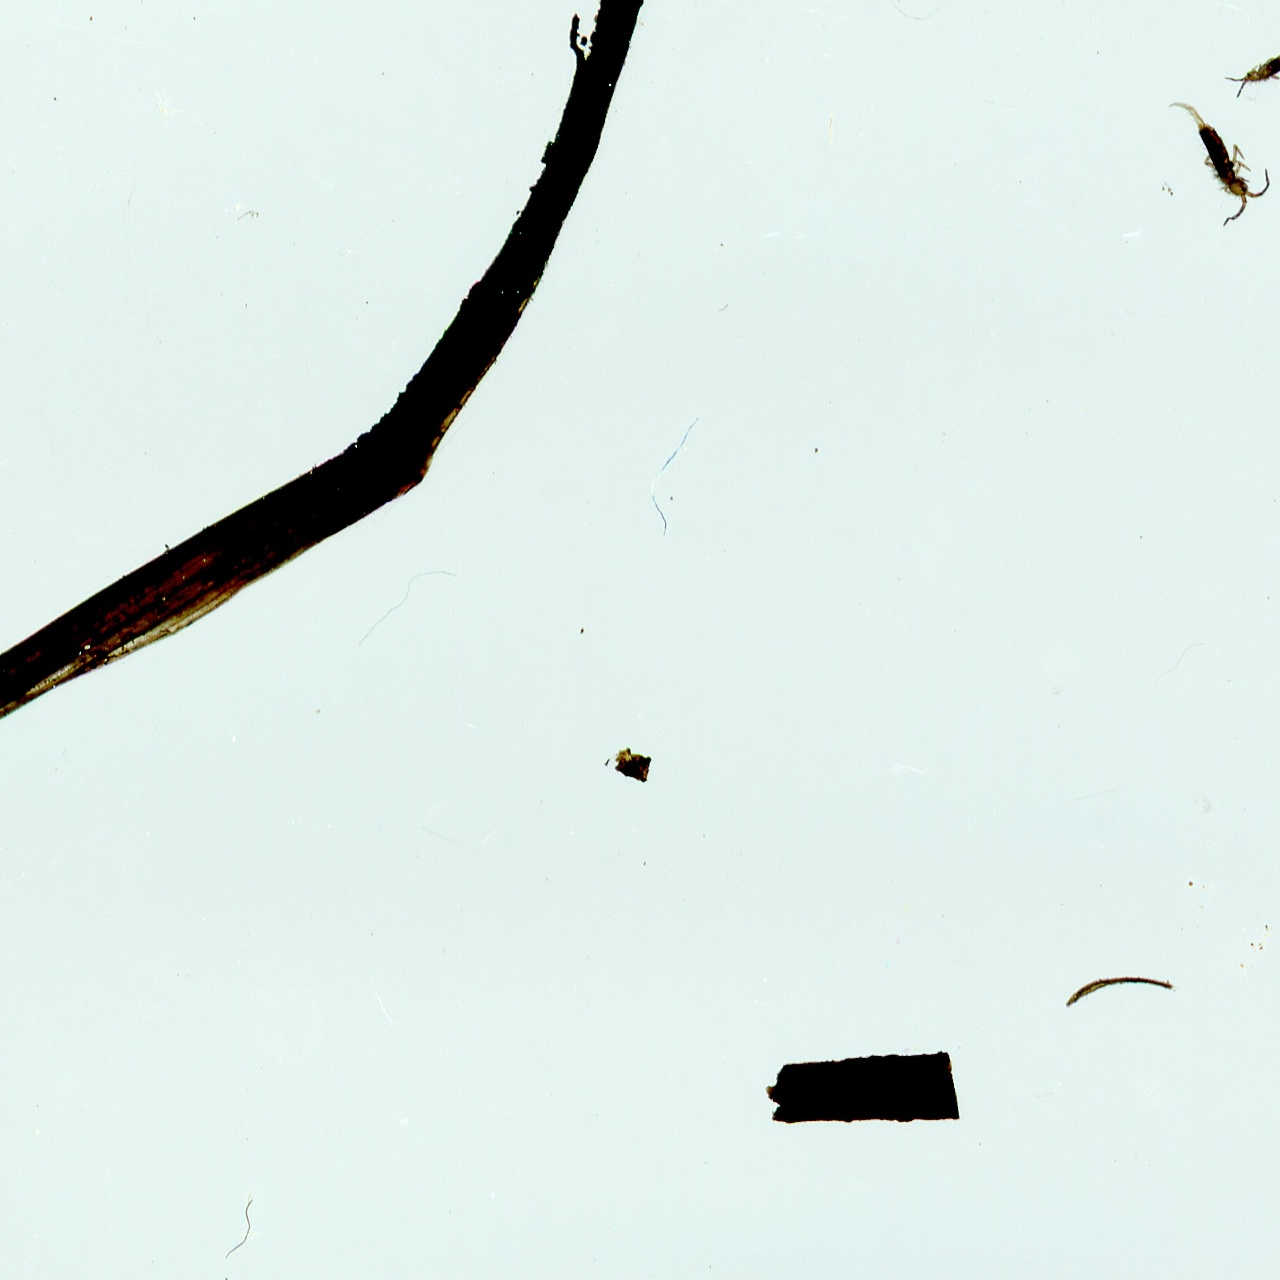arthropod: (1162, 98, 1276, 230), (1224, 45, 1280, 97)
